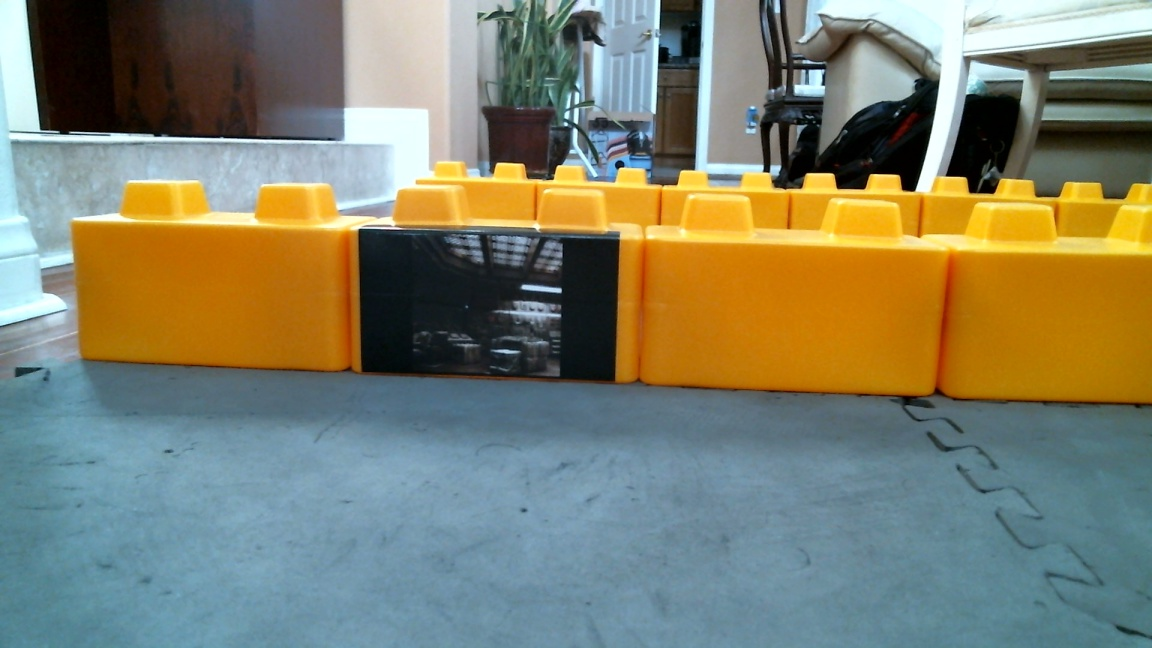skystone: (367, 205, 636, 381)
stone: (649, 207, 942, 398), (77, 179, 344, 364), (951, 198, 1152, 415)
